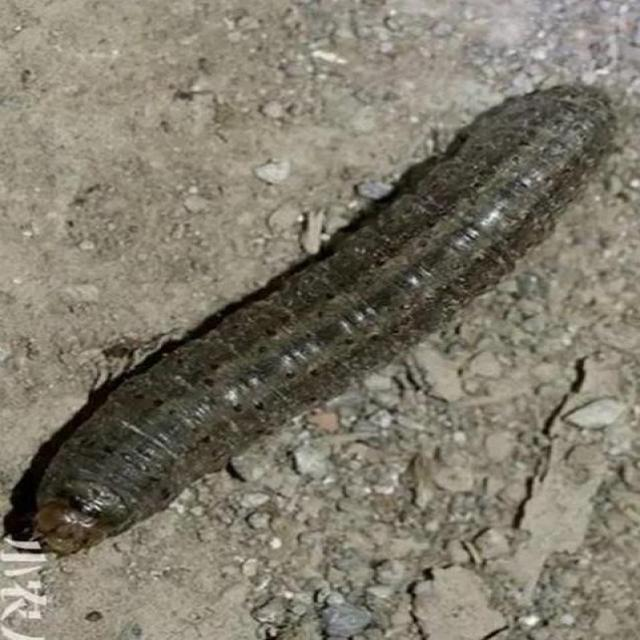black cutworm: (13, 85, 625, 575)
